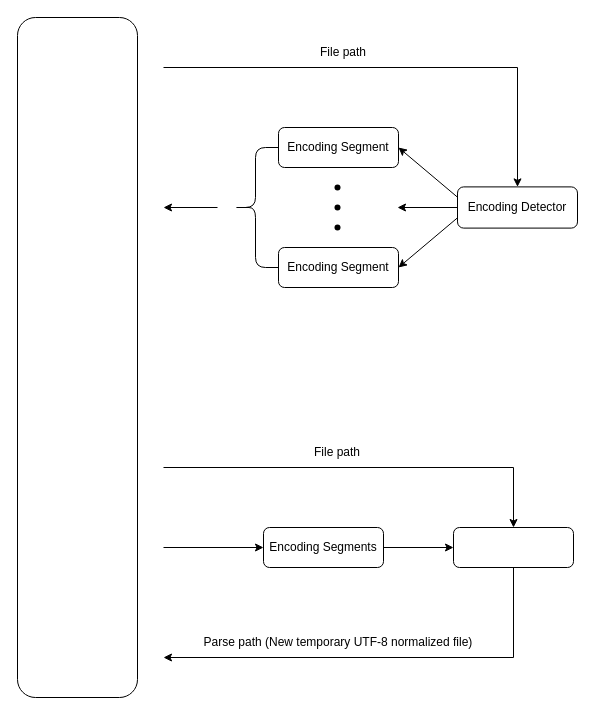
Image size: 595x715. Some labels were removed from this diagram. Here are the shapes that lost their labels. From the top down, the centre of each, then its label:
At (x=77, y=357): "Main Program".
At (x=513, y=547): "Encoding Converter".
